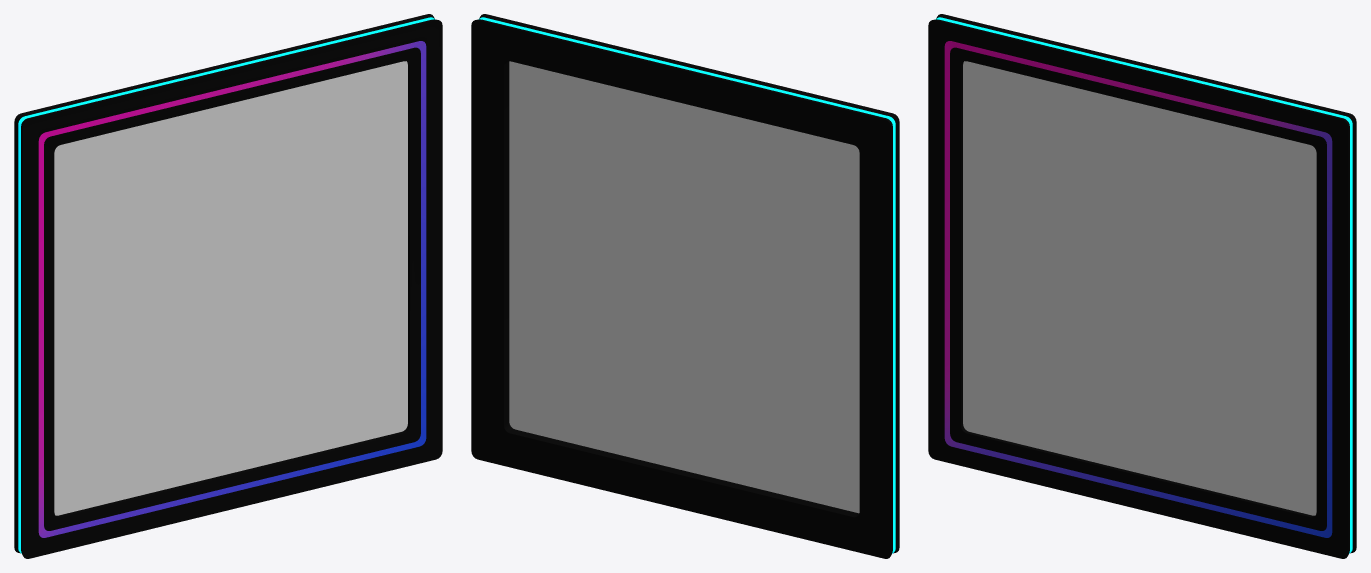
The model's file is frame.fbx.
3 views of the same model, side by side, from view 1: azimuth 30°, elevation 25°; view 2: azimuth 150°, elevation 25°; view 3: azimuth 330°, elevation 25° (orthographic).
Visible parts, largest first — view 1: Plane.001, Cube; view 2: Plane.001, Cube; view 3: Plane.001, Cube.
Part boxes in pixels (box(x1,y1,x2,y2)): Plane.001: box(54, 61, 407, 515); Cube: box(14, 14, 442, 558); Plane.001: box(509, 61, 859, 513); Cube: box(471, 14, 899, 558); Plane.001: box(963, 61, 1316, 515); Cube: box(928, 14, 1356, 558).
Bounding box in the file's own units: 629 × 629 × 21.35.
4 materials, 1 textured.
